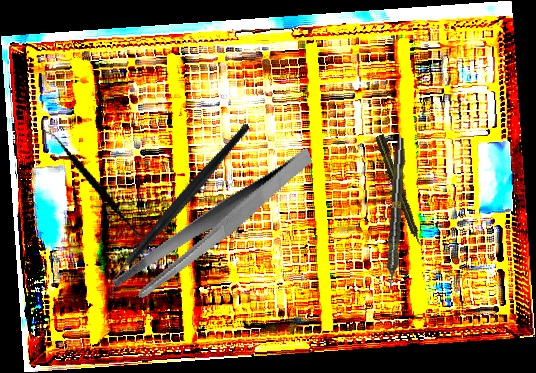Chopper: (68, 122, 291, 300)
Dressing Forceps: (93, 147, 336, 306)
Handpiece: (374, 133, 425, 249), (383, 137, 408, 292)
Spatula Surgical: (21, 128, 174, 242)
